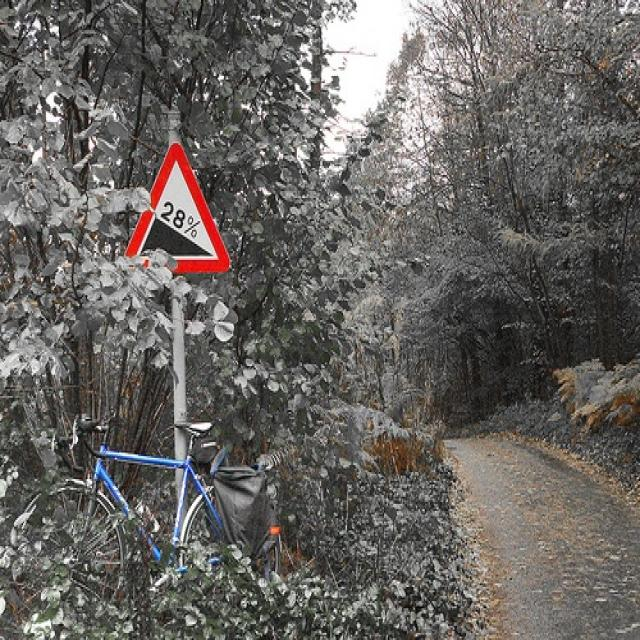bicycle: (32, 415, 296, 573)
